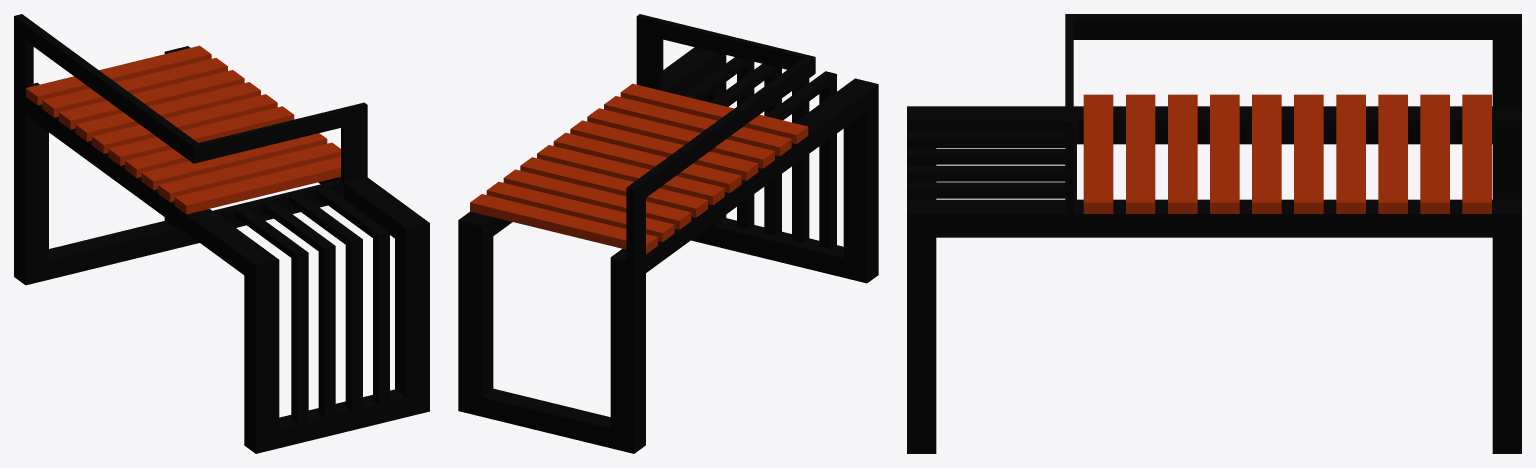
File: bw-bench.lod0.glb
3 renders of one model, left to right at view 1: azimuth 30°, elevation 25°; view 2: azimuth 150°, elevation 25°; view 3: azimuth 270°, elevation 25°, orthographic. The views are drawn at different scales.
Visible parts, largest first — view 1: Object_4; view 2: Object_4; view 3: Object_4.
Boxes of the visible parts, box(x1,y1,x2,y2) form: Object_4: box(14, 14, 429, 453); Object_4: box(458, 14, 878, 453); Object_4: box(907, 14, 1521, 453).
Bounding box in the file's own units: 0.8309 × 1.19 × 2.
